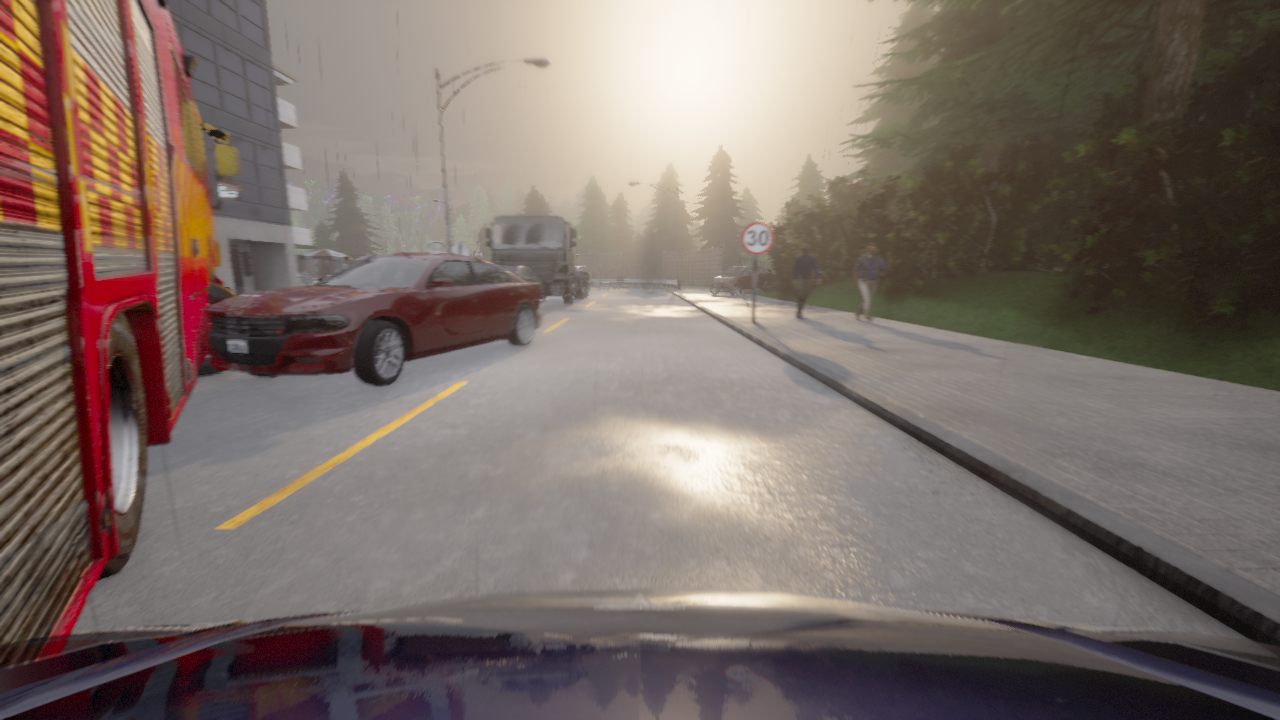cyclist: (0, 588, 1279, 719), (207, 253, 543, 385), (485, 215, 588, 304), (497, 264, 544, 307), (709, 265, 773, 295), (575, 269, 589, 292), (573, 265, 589, 278)
pedestrian: (853, 243, 886, 321), (793, 243, 821, 318), (336, 258, 347, 271)
